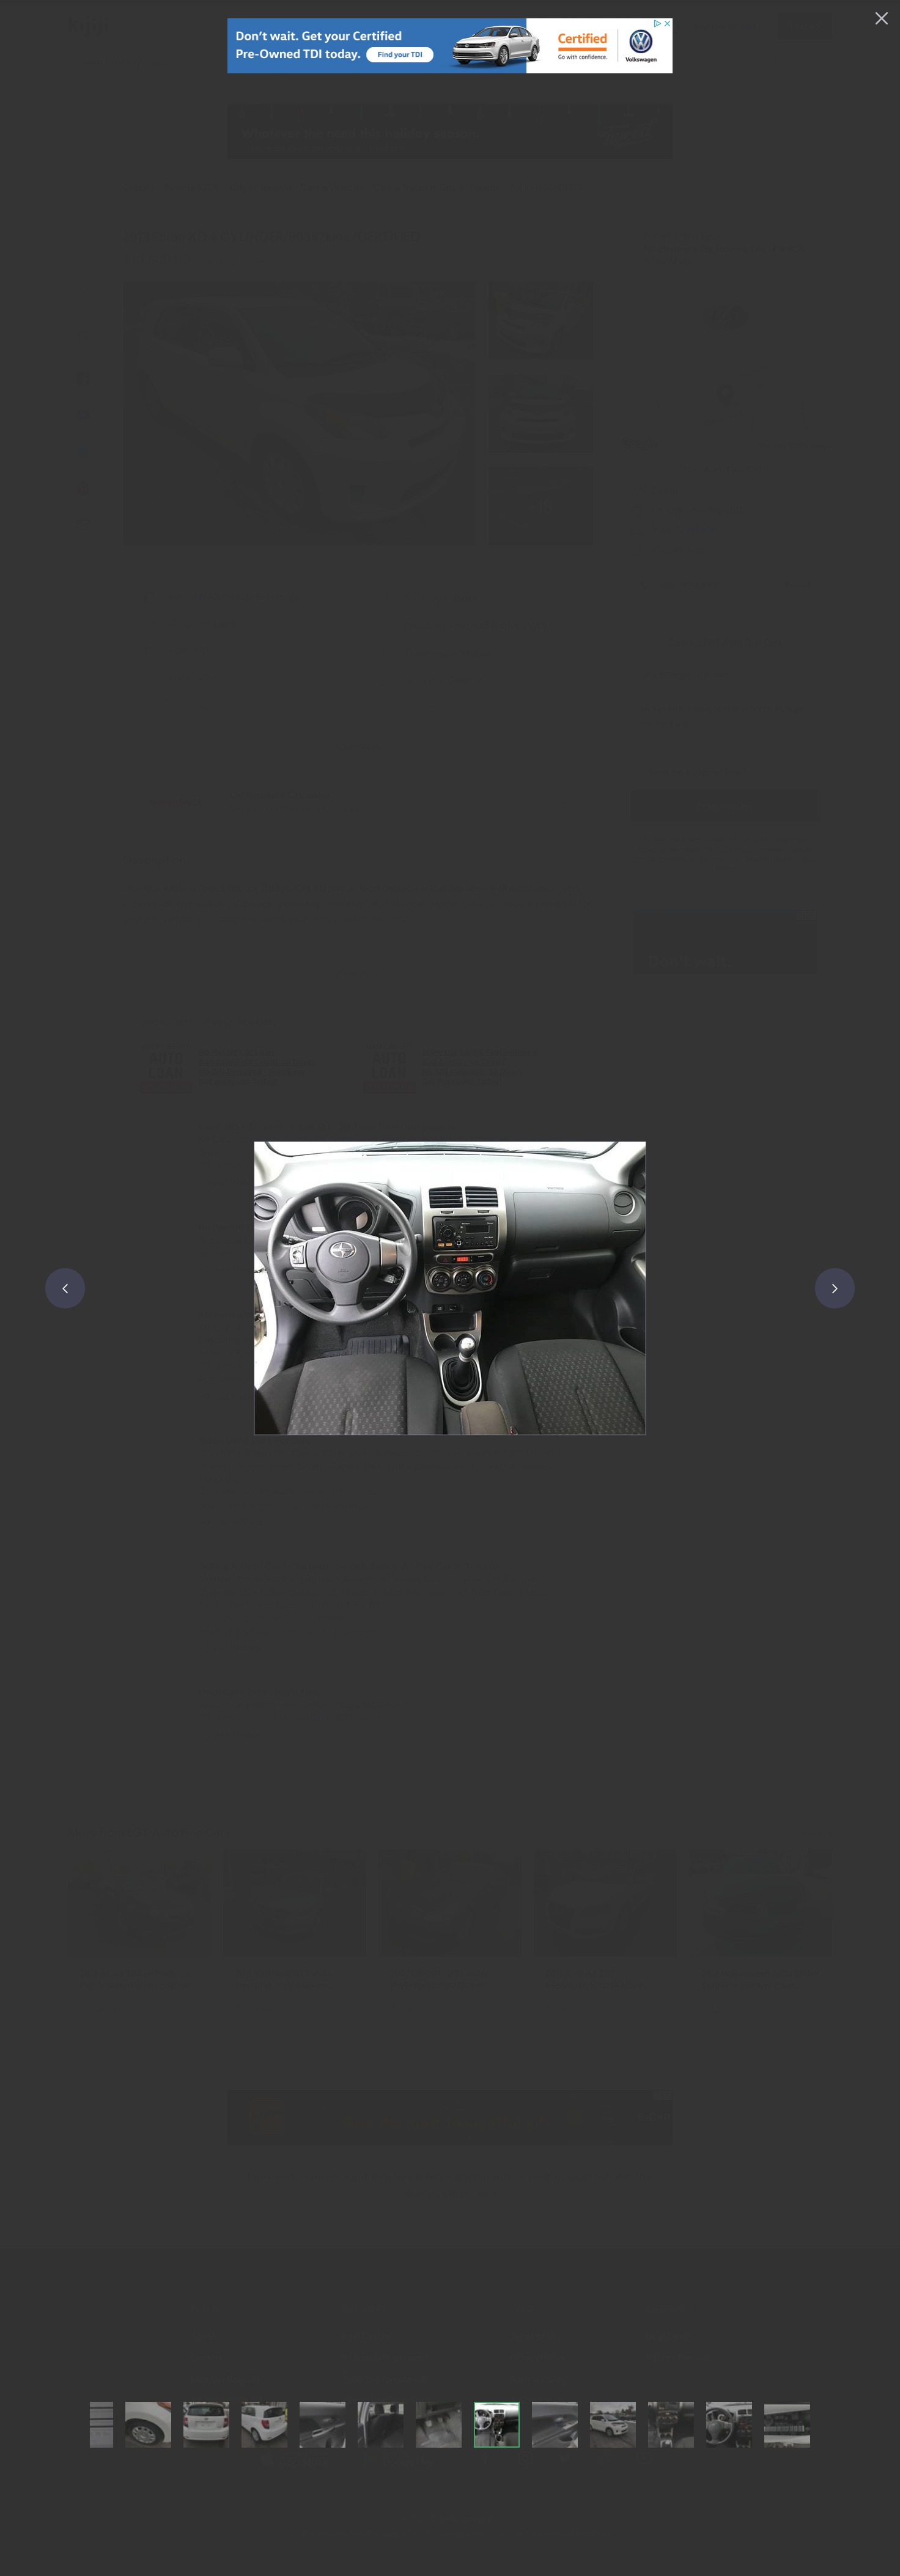car: (815, 1267, 859, 1311)
